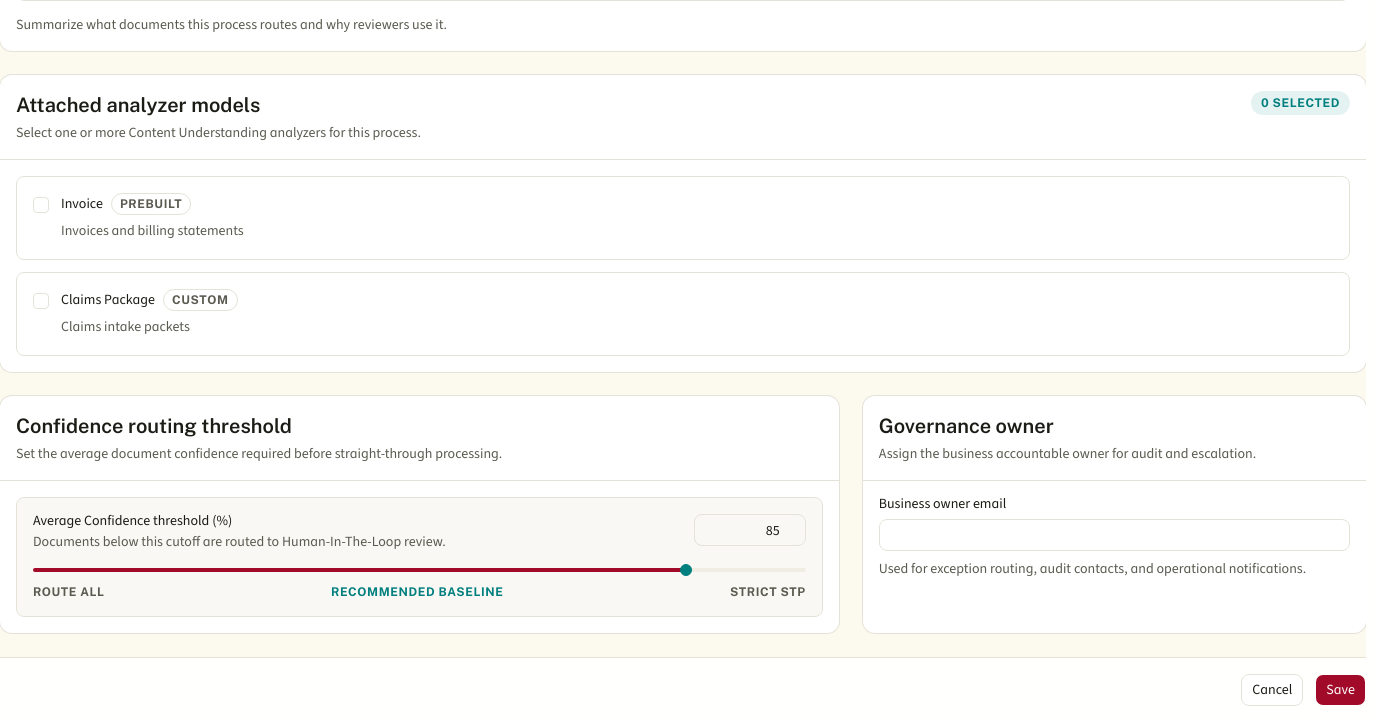
Scenario: ProcessForm › shows validation errors for required fields, analyzer count, and email format
(page scrolled)
Expected: the text "Invoice" is shown, [61, 194, 103, 214]
Clear the number field labelled "Average Confidence threshold (%)" at (750, 530), box [694, 514, 806, 546]
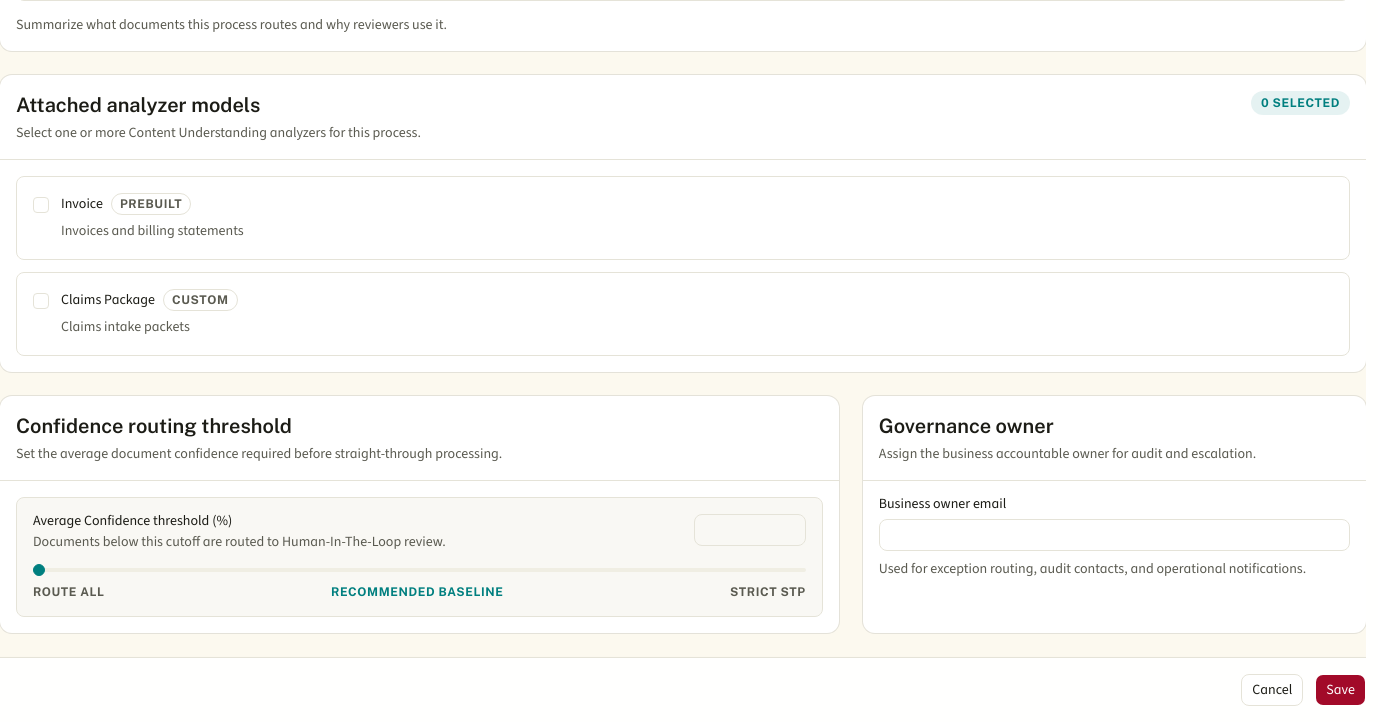
Type "invalid-email" into the field labelled "Business owner email" at (1114, 535), box [879, 519, 1350, 551]
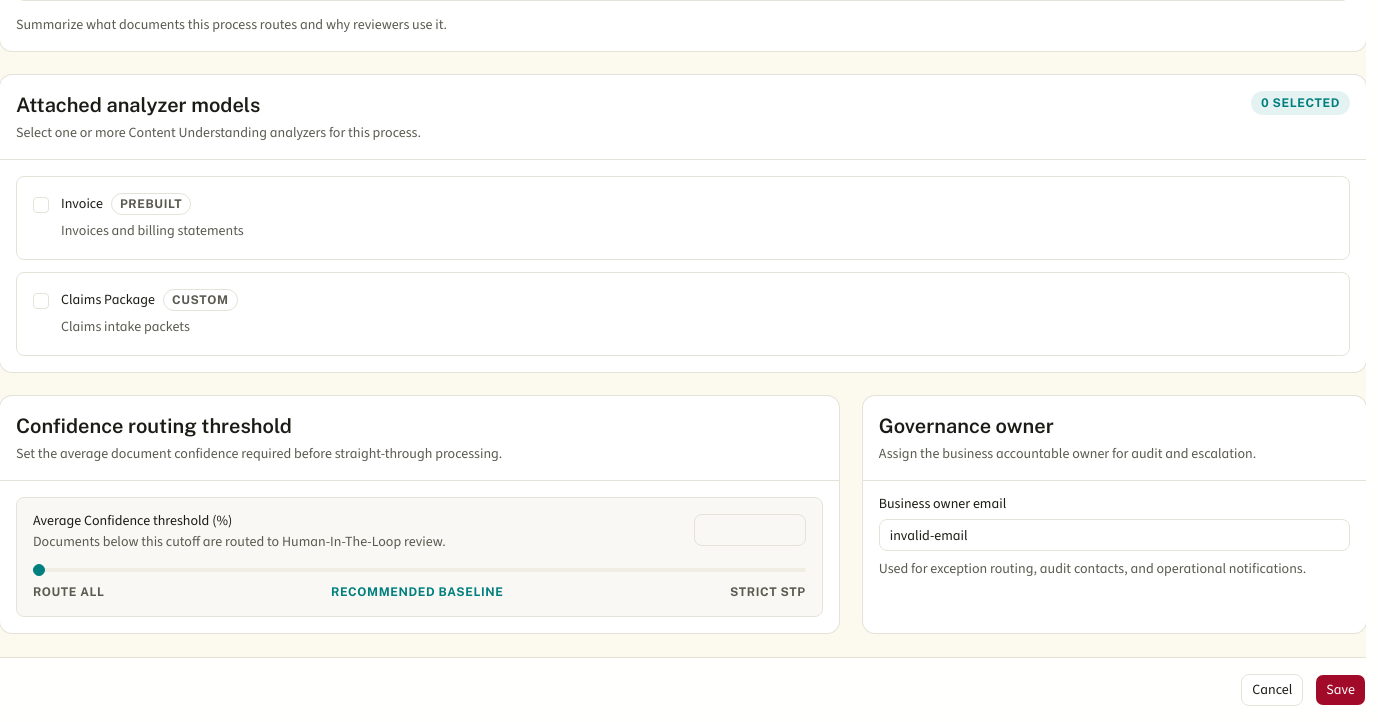
Click the button "Save" at (1341, 690), box [1315, 674, 1366, 706]
(page scrolled)
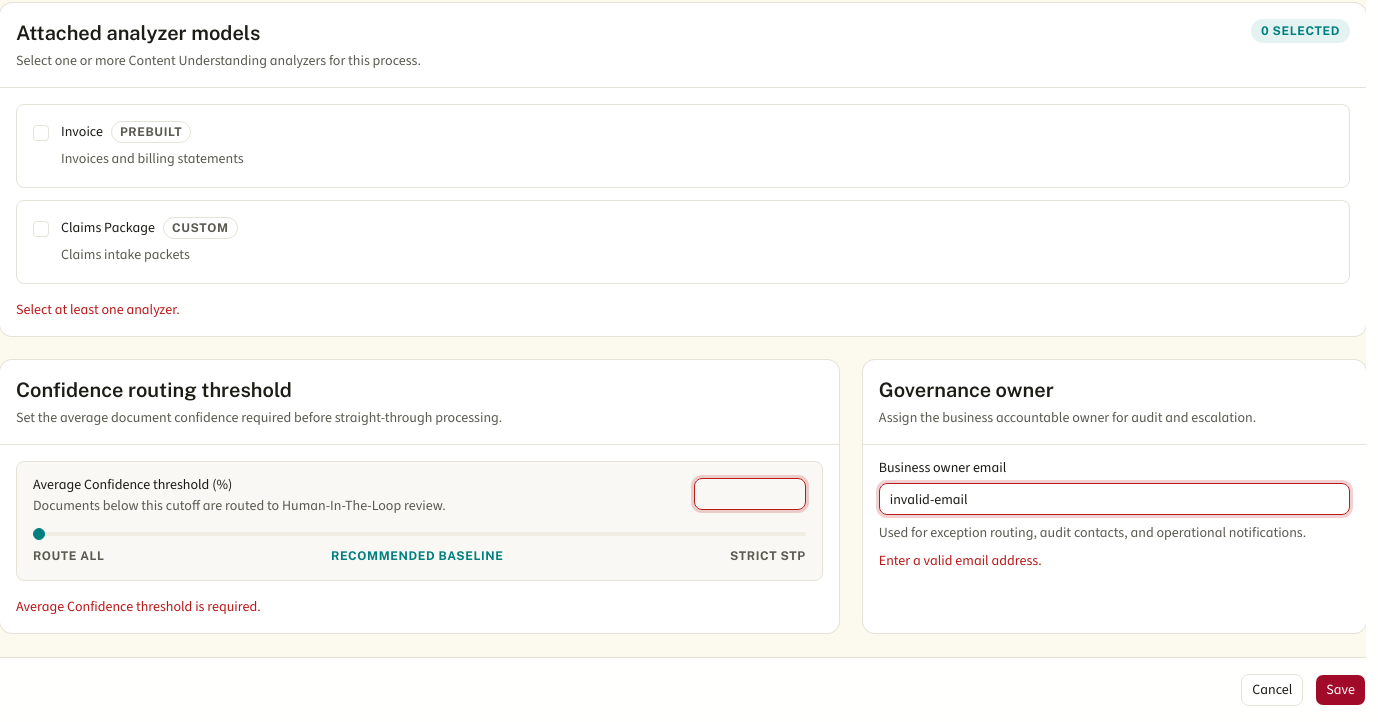
Expected: the text "Select at least one analyzer." is shown, [16, 300, 180, 319]
Expected: the text "Average Confidence threshold is required." is shown, [16, 597, 261, 616]
Expected: the text "Enter a valid email address." is shown, [879, 551, 1042, 570]
